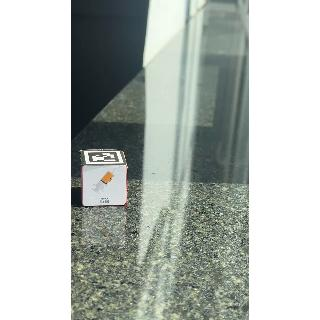Syringe: (83, 165, 127, 208)
